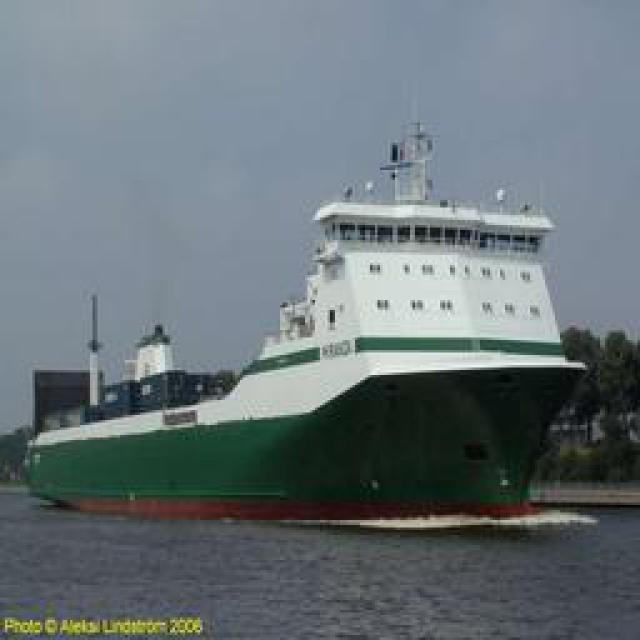Ship: (34, 69, 587, 529)
